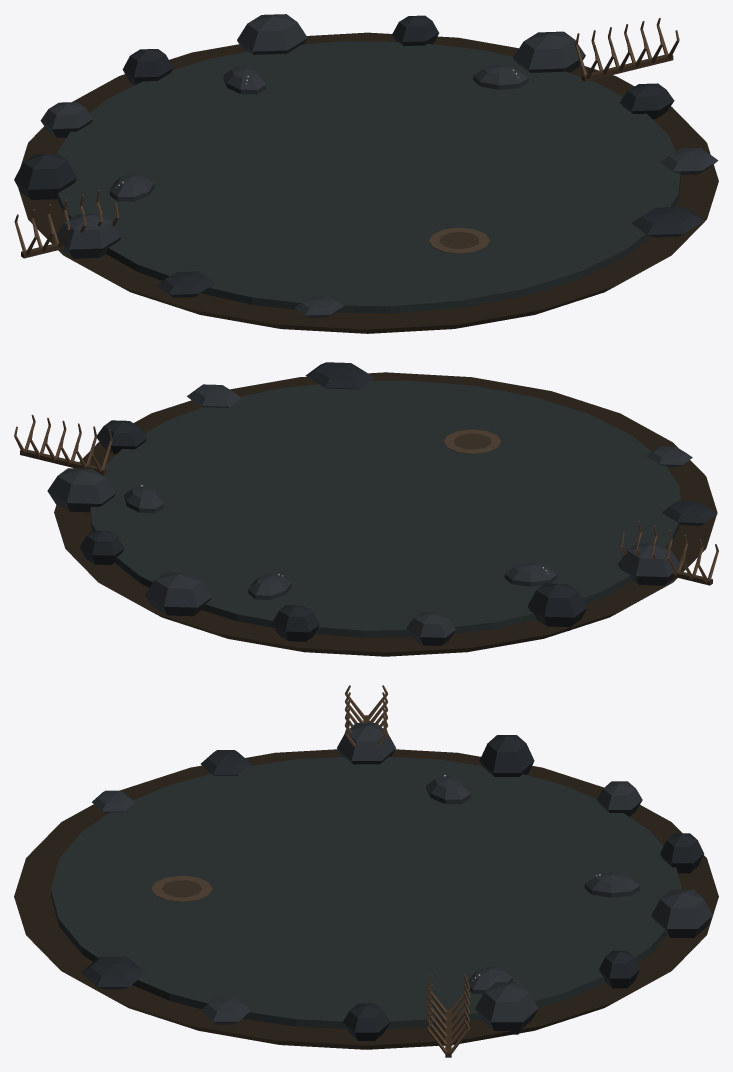
The model's file is s3_arena_b22.glb.
3 renders of one model, top to bottom at view 1: azimuth 30°, elevation 25°; view 2: azimuth 150°, elevation 25°; view 3: azimuth 270°, elevation 25°, orthographic. The views are drawn at different scales.
Parts seen in each view (by area): view 1: s3_arena_b22; view 2: s3_arena_b22; view 3: s3_arena_b22.
Part boxes in pixels (x1,y1,x2,y2): s3_arena_b22: (14,14,718,333); s3_arena_b22: (14,362,718,656); s3_arena_b22: (14,685,718,1057).
Bounding box in the file's own units: 39 × 3.26 × 34.4.
